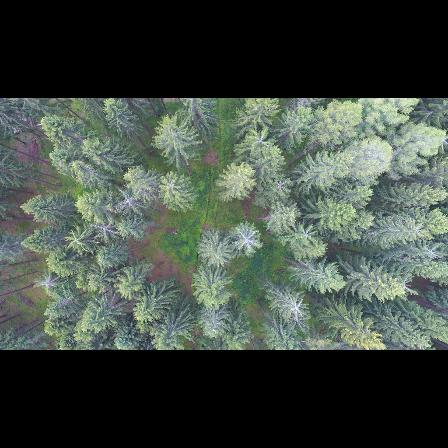Sick: (280, 296, 312, 329), (231, 226, 264, 256), (88, 217, 120, 245), (32, 270, 64, 296), (113, 190, 145, 214)
